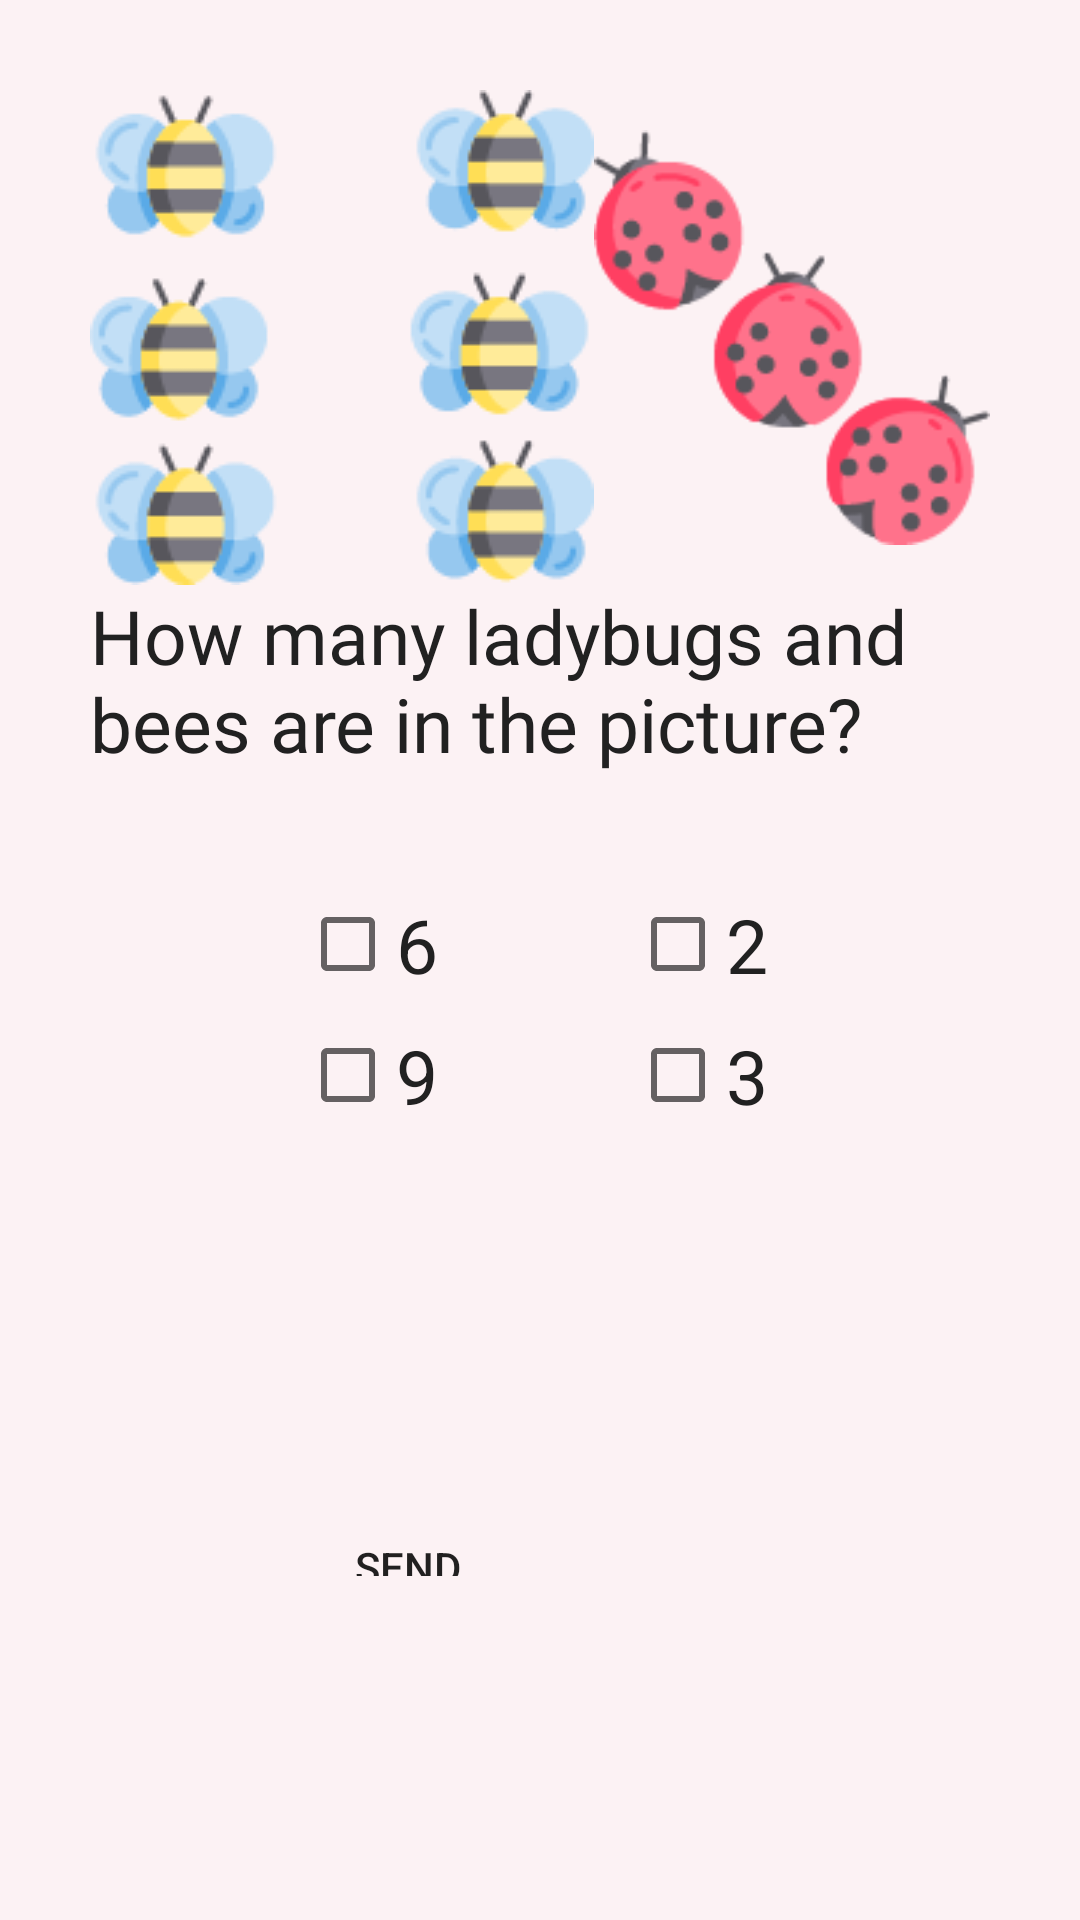

Icon click points for this 1080 × 1920 phone screenshot, format [x,y]:
ladybug three: [851,398]
